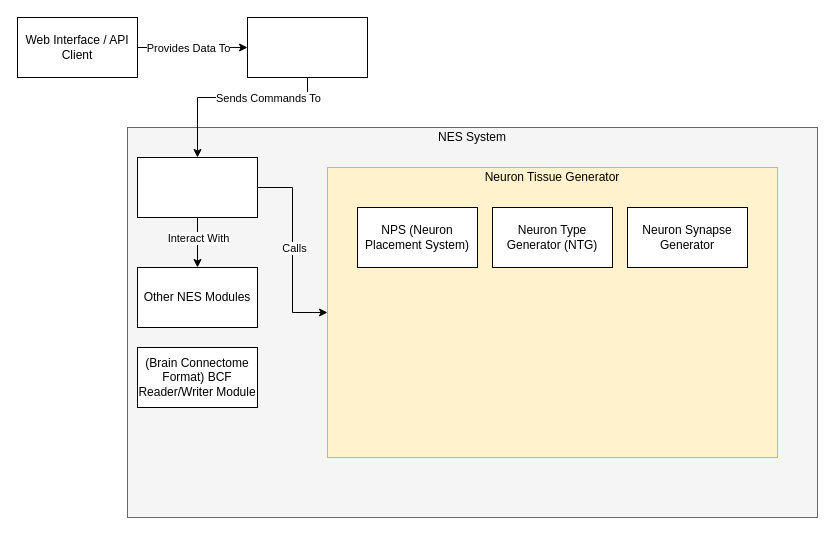
The diagram is 835 pixels wide and 535 high, and some of its shapes have lost their labels. Here are the shapes that lost their labels. From the top down, the centre of each, then its label:
pixel 307 47: API Server
pixel 197 187: NES API Module
